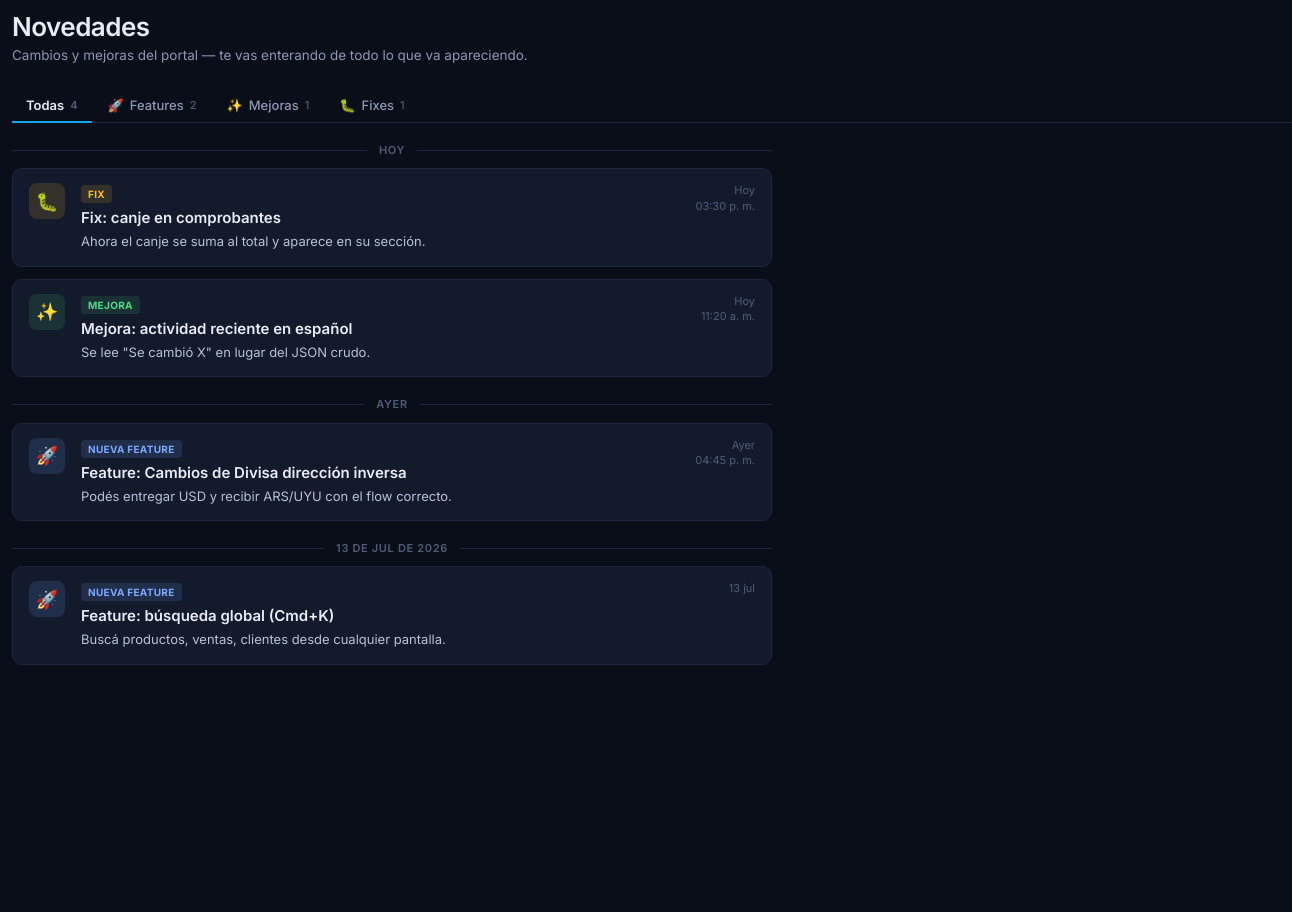
it: Pantalla Novedades › filtro por tipo: click en "Fixes" oculta las que no son fix
This screenshot has width=1292, height=912.
Expected: the heading "Fix: canje en comprobantes" is shown, 81,208 -> 281,227
Note: Click en el tab "Fixes"
Click the tab "🐛 Fixes 1": (372, 106) 325,89 -> 419,123
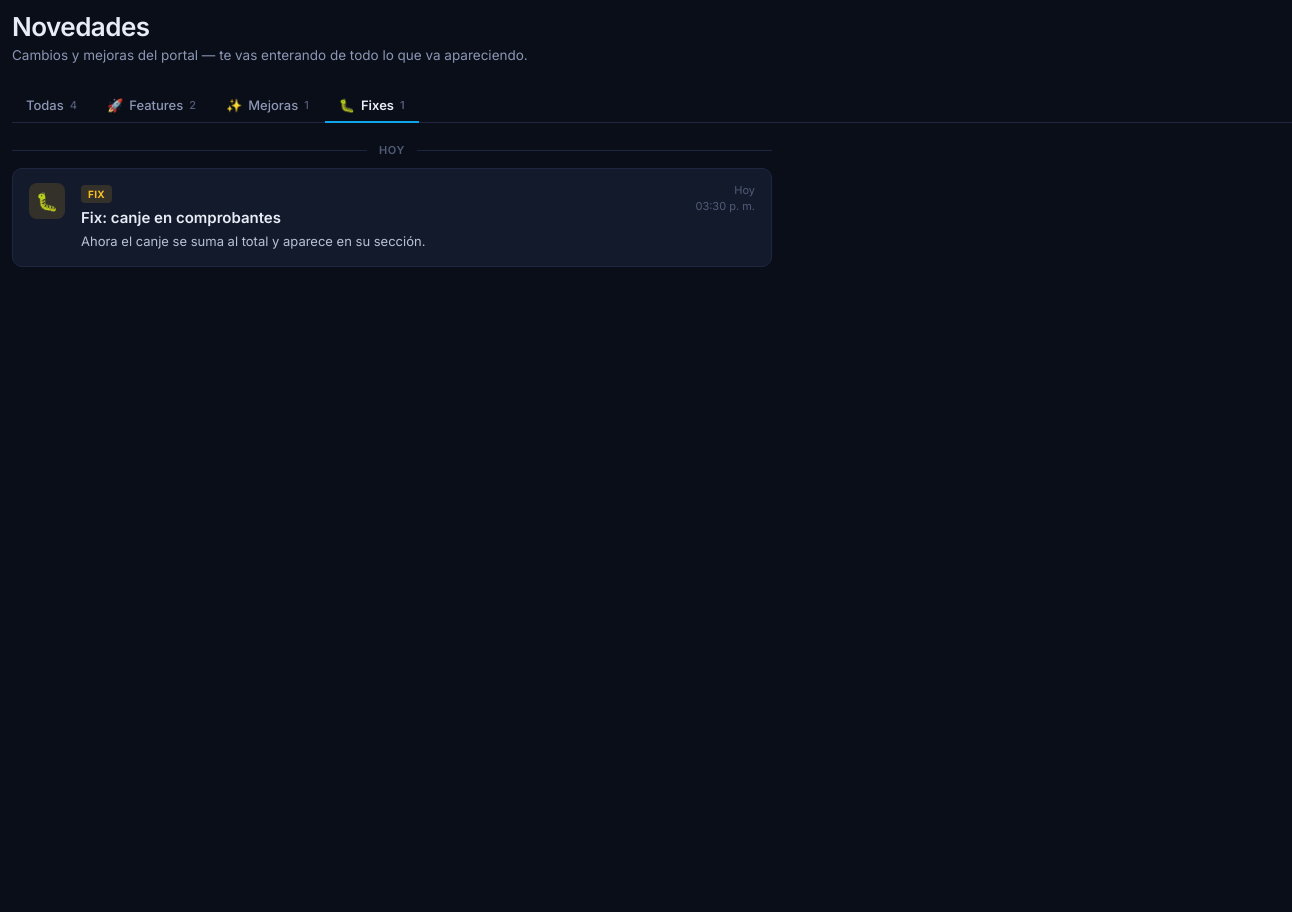
Expected: the heading "Fix: canje en comprobantes" is shown, 81,208 -> 281,227
Now the heading "actividad reciente en español" is gone
Now the heading "Cambios de Divisa" is gone
